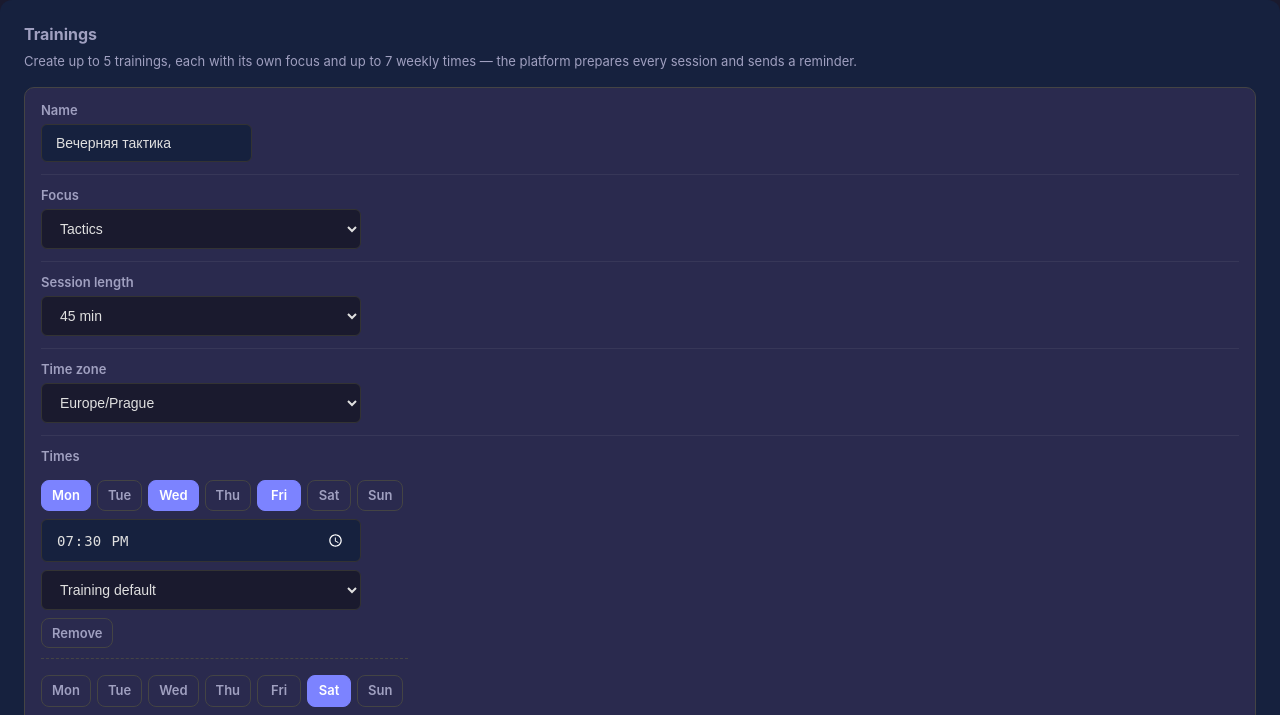
Test: StudyTab (KS-4928) › сохранение карточки: PUT /study/schedules/:id с полным списком слотов
Step 1. Replace the text in the field with test id "study-name-input" with "Тактика и эндшпили" → [146, 143], box x1=41 y1=124 x2=252 y2=162
(page scrolled)
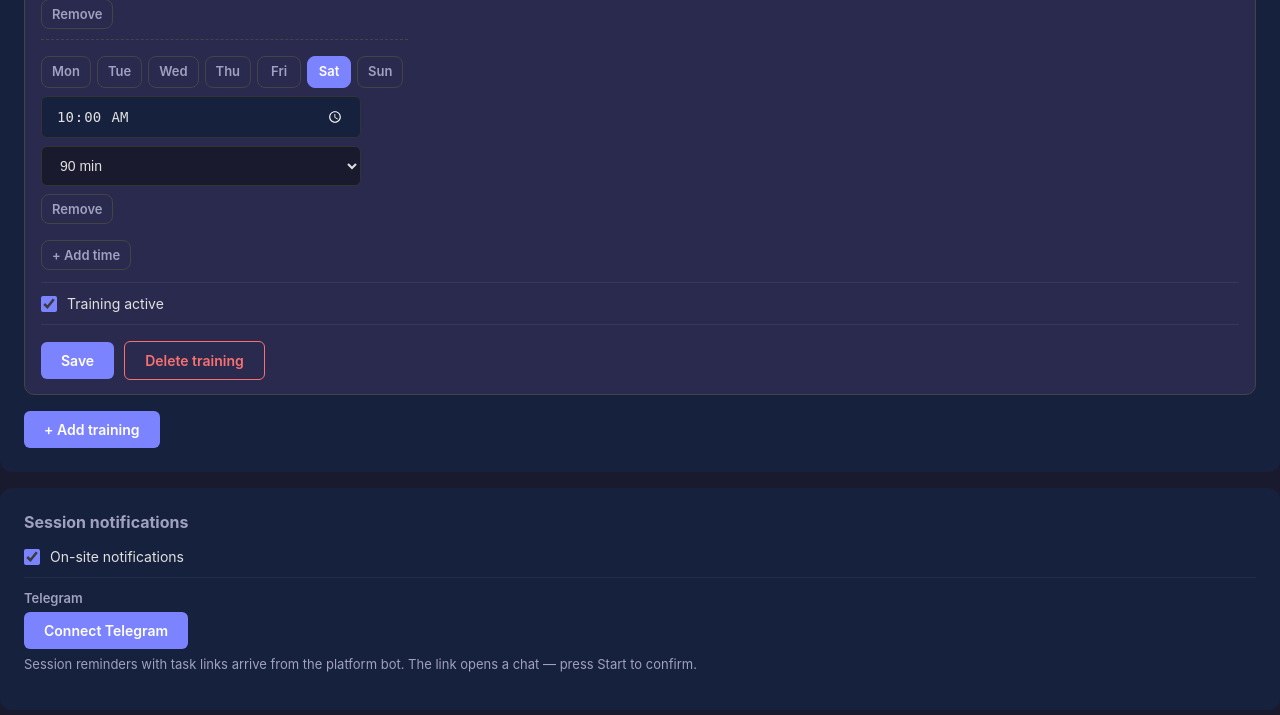
Step 2. Click the button with test id "study-schedule-save" → [78, 361], box x1=41 y1=342 x2=114 y2=379
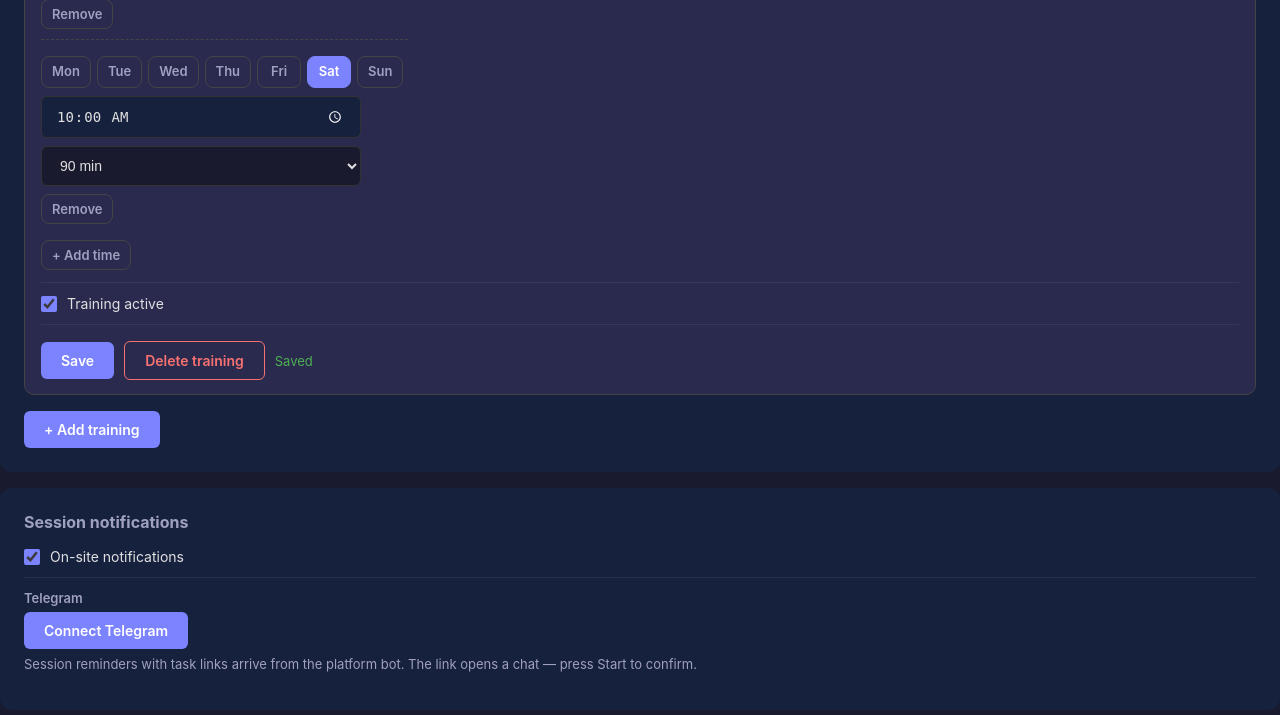
Expected: the text "Saved" is shown, x1=275 y1=353 x2=313 y2=369
